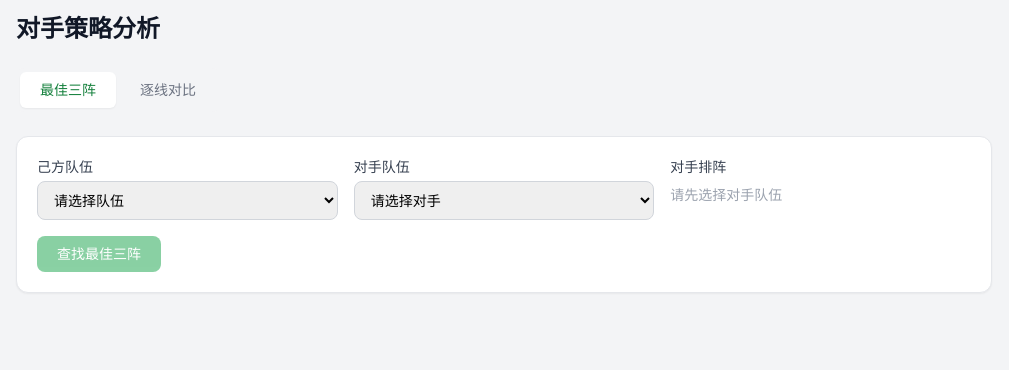
Test: OpponentAnalysis › 逐线对比 mode › switching to 逐线对比 shows own lineup selector
The width and height of the screenshot is (1009, 370).
Click the button "逐线对比". click: (168, 90)
box: [120,72,216,108]
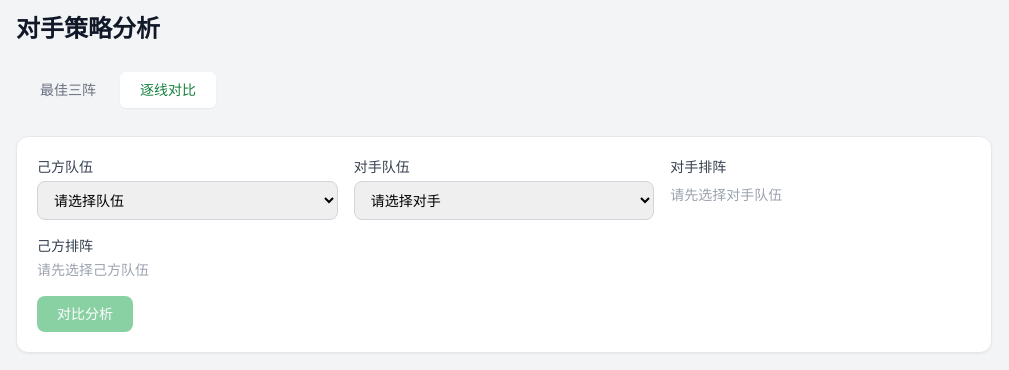
Expected: the text "己方排阵" is shown, [37,236,93,255]
